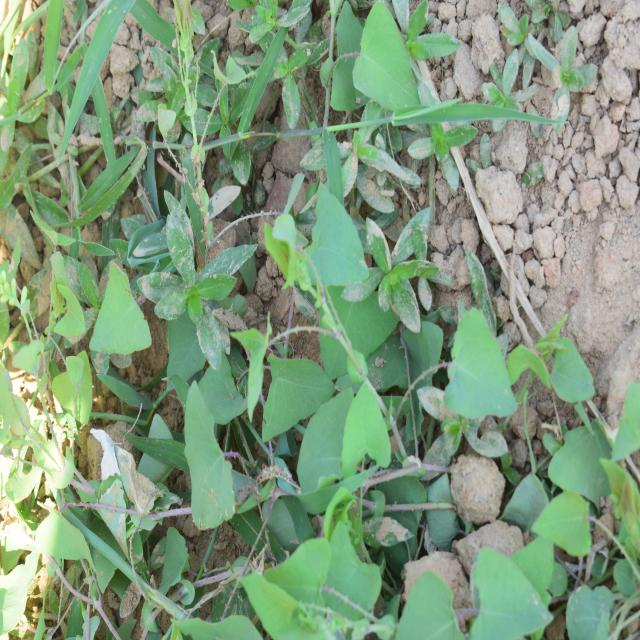Asiatic_Smartweed: (241, 232, 398, 486), (430, 300, 524, 449), (164, 380, 248, 531)
